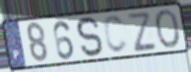6: (52, 18, 75, 61)
8: (26, 21, 49, 65)
C: (102, 14, 130, 55)
O: (153, 8, 182, 50)
S: (76, 15, 105, 59)
Z: (125, 10, 159, 54)
